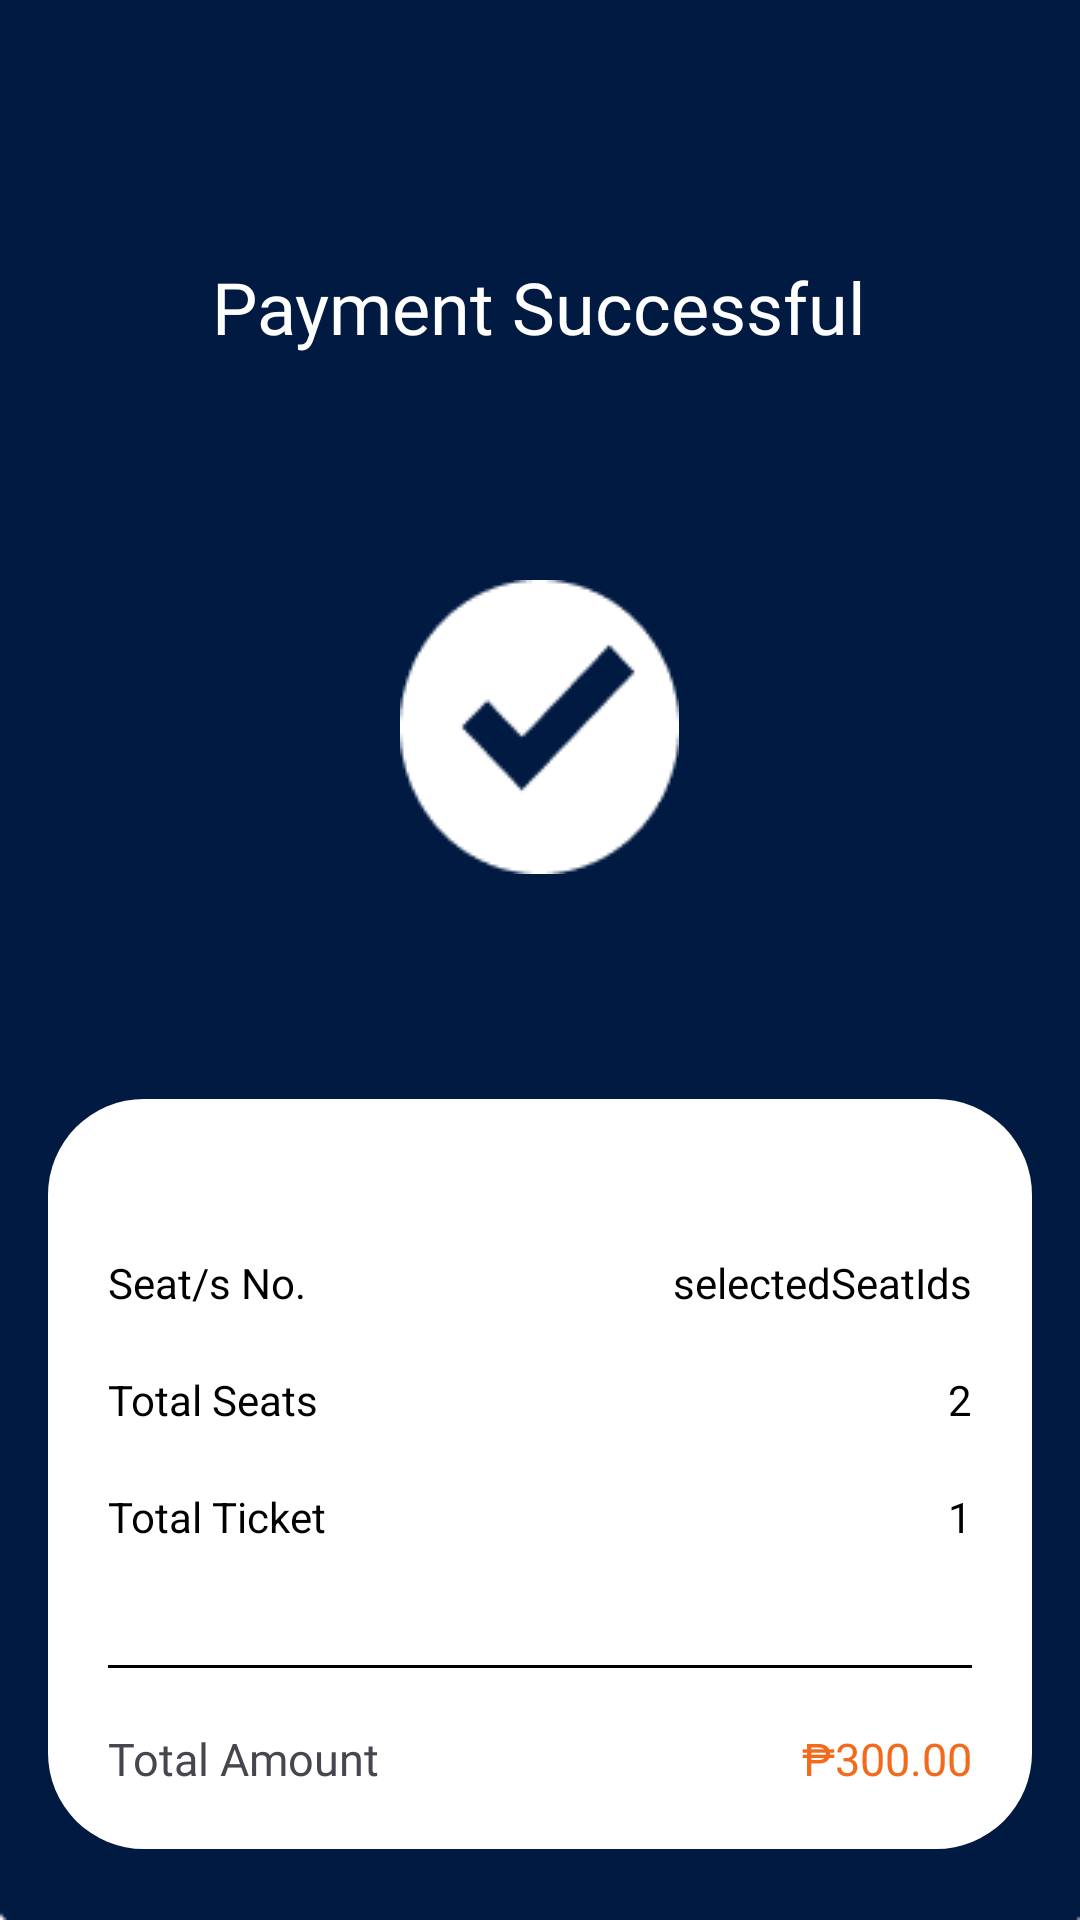

Screen size 1080w x 1920h. Icon name, then its box in pixels as (x1, y1, x2, y2):
circle check: (400, 580, 679, 874)
